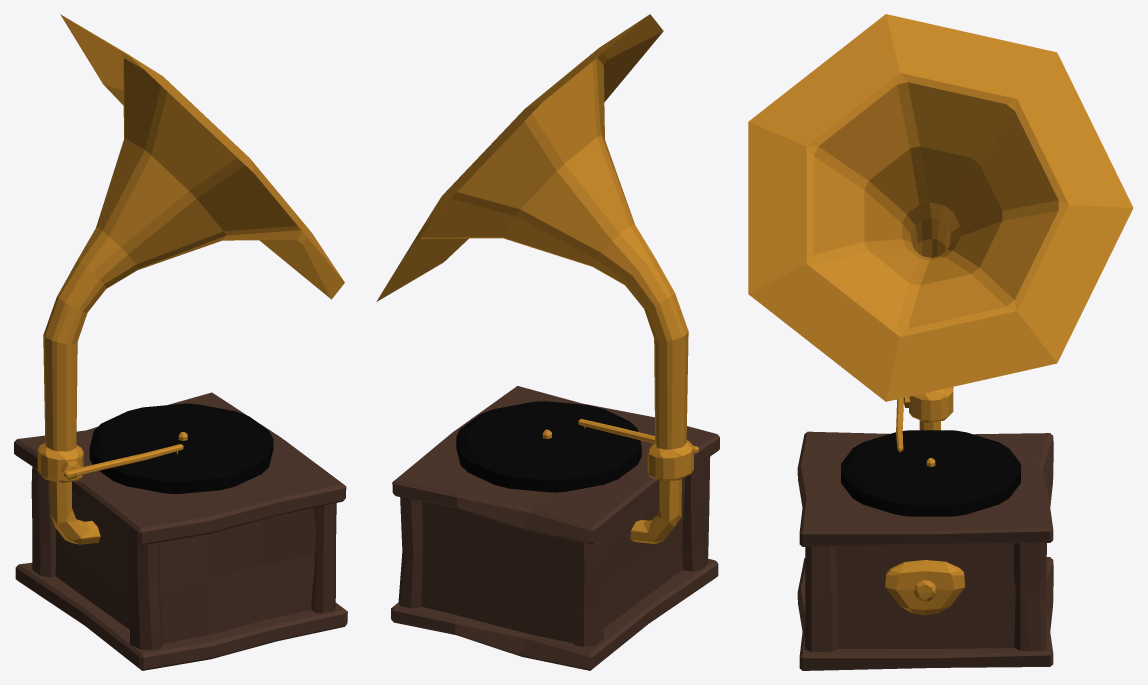
File: gramophone.fbx
3 views of the same model, side by side, from view 1: azimuth 30°, elevation 25°; view 2: azimuth 150°, elevation 25°; view 3: azimuth 270°, elevation 25° (orthographic). The views are drawn at different scales.
Parts seen in each view (by area): view 1: Cube.009, Gramophone; view 2: Cube.009, Gramophone; view 3: Cube.009.
Part boxes in pixels (x1,y1,x2,y2): Cube.009: [14, 14, 347, 670]; Gramophone: [64, 444, 183, 478]; Cube.009: [376, 14, 719, 670]; Gramophone: [578, 419, 698, 453]; Cube.009: [748, 14, 1133, 670].
Bounding box in the file's own units: 196 × 409 × 249.
